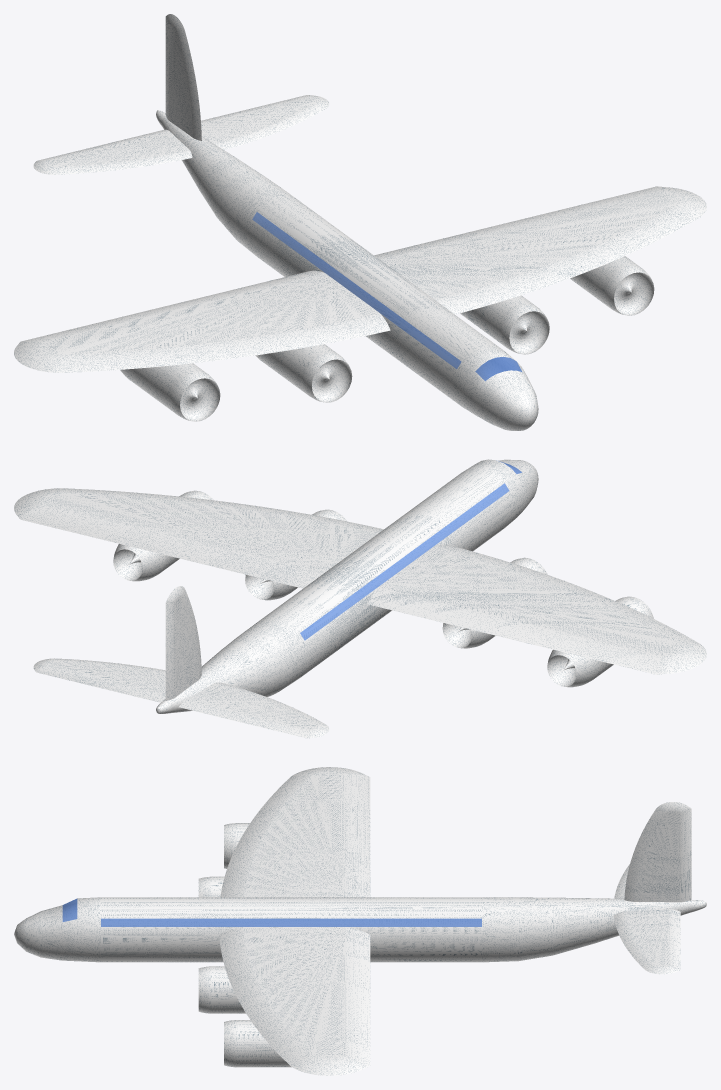
File: cargo.dae
3 renders of one model, top to bottom at view 1: azimuth 30°, elevation 25°; view 2: azimuth 150°, elevation 25°; view 3: azimuth 270°, elevation 25°, orthographic. The views are drawn at different scales.
Visible parts, largest first — view 1: group_5 (×2), group_0, group_3, group_1, group_2, group_6, group_7, group_4, group_8, group_9; view 2: group_5 (×2), group_0, group_3, group_1, group_2, group_4, group_6, group_9, group_7, group_8; view 3: group_5 (×2), group_3, group_0, group_4, group_2, group_9, group_8, group_6, group_7.
Part boxes in pixels (box(x1,y1,x2,y2)): group_5 (×2): box(156, 110, 538, 430); group_0: box(14, 270, 390, 372); group_3: box(374, 186, 706, 314); group_1: box(33, 129, 192, 174); group_2: box(201, 95, 329, 149); group_6: box(120, 363, 220, 421); group_7: box(255, 344, 352, 402); group_4: box(165, 14, 201, 140); group_8: box(460, 295, 549, 354); group_9: box(570, 256, 654, 315); group_5 (×2): box(156, 459, 538, 713); group_0: box(368, 544, 706, 674); group_3: box(14, 488, 383, 588); group_1: box(178, 682, 329, 738); group_2: box(33, 658, 165, 702); group_4: box(165, 586, 201, 700); group_6: box(547, 596, 653, 687); group_9: box(113, 490, 213, 581); group_7: box(442, 557, 547, 648); group_8: box(245, 509, 347, 600); group_5 (×2): box(14, 897, 706, 962); group_3: box(219, 927, 370, 1075); group_0: box(220, 767, 370, 897); group_4: box(624, 802, 691, 902); group_2: box(613, 909, 680, 974); group_9: box(224, 1020, 291, 1067); group_8: box(198, 966, 245, 1013); group_6: box(224, 823, 249, 868); group_7: box(198, 876, 224, 897).
Size of the model in its own units: 678 by 643 by 169.
